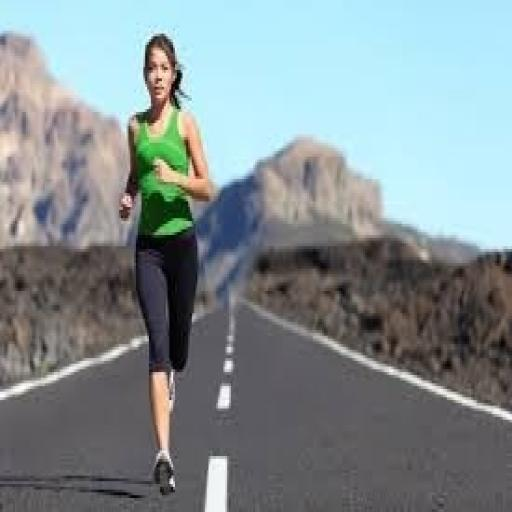running: (116, 31, 214, 498)
